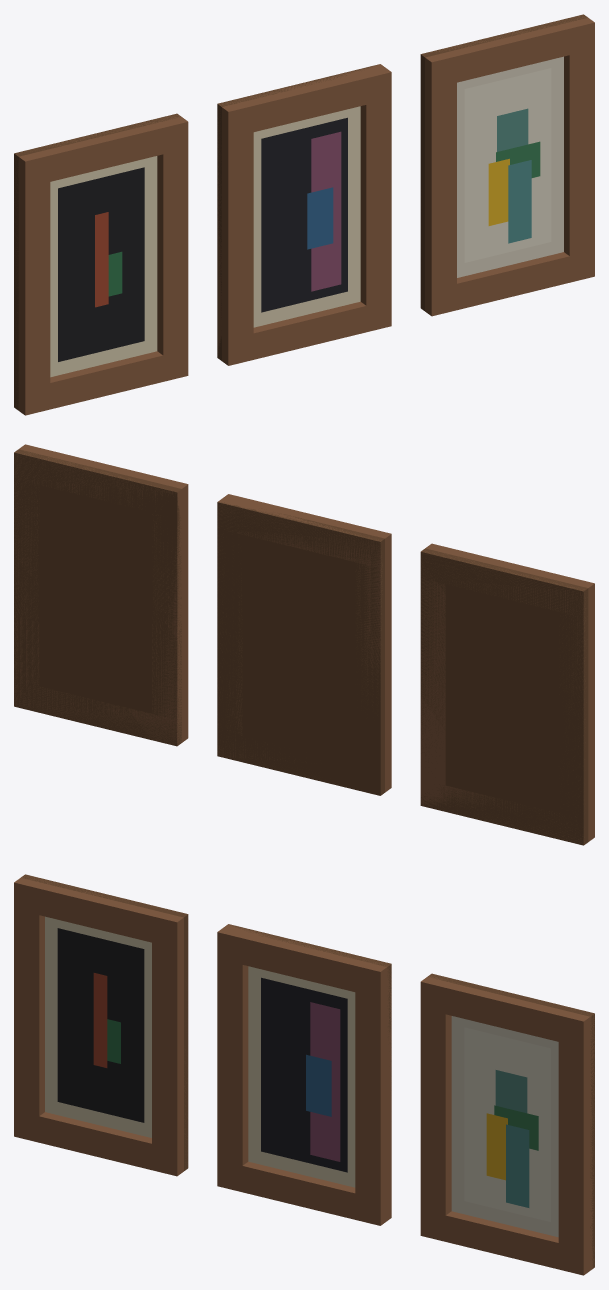
File: picture-frame-12.glb
The picture shows the model from 3 angles, top to bottom: view 1: azimuth 30°, elevation 25°; view 2: azimuth 150°, elevation 25°; view 3: azimuth 330°, elevation 25°; orthographic projection.
Parts seen in each view (by area): view 1: picture_frame_12; view 2: picture_frame_12; view 3: picture_frame_12.
Boxes of the visible parts, x1,y1,x2,y2 form: picture_frame_12: (14, 14, 594, 415); picture_frame_12: (14, 444, 594, 845); picture_frame_12: (14, 874, 594, 1275).
Bounding box in the file's own units: 0.855 × 0.3643 × 0.0291.
